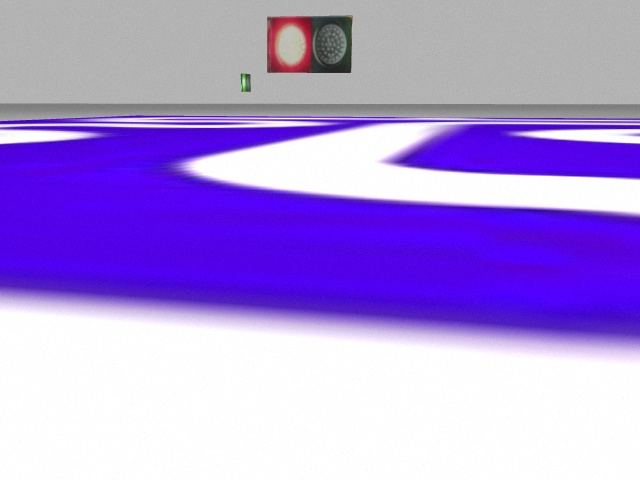red: (267, 16, 312, 71)
